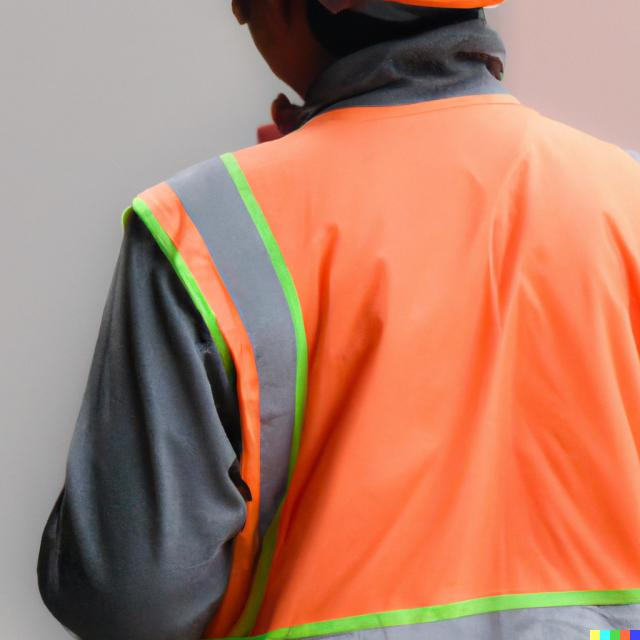Reflective-Jacket: (79, 69, 640, 640)
